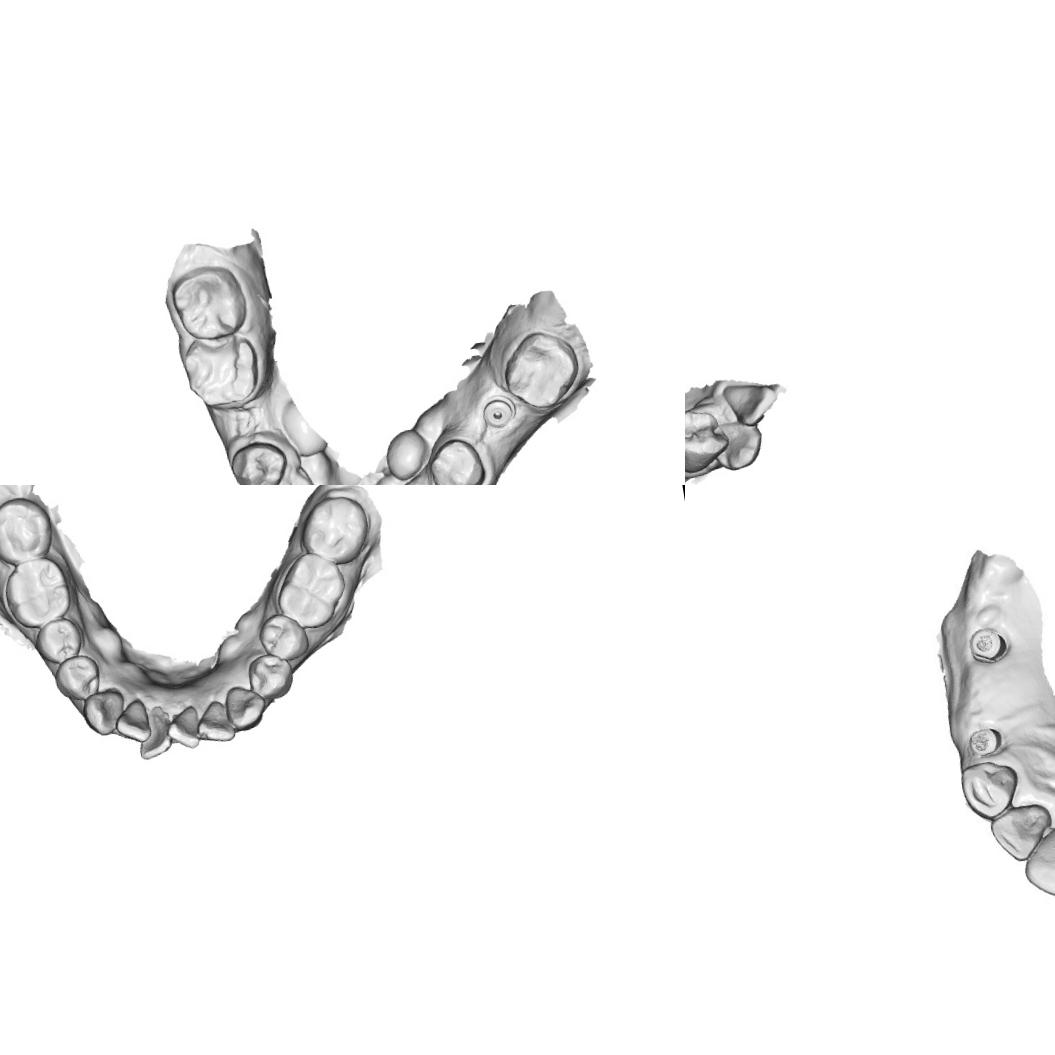canine: (954, 757, 1024, 823), (710, 414, 770, 473), (221, 682, 269, 734), (80, 688, 128, 738)
implant: (966, 624, 1012, 665), (478, 391, 520, 432), (962, 724, 1002, 762)
incisor: (986, 798, 1055, 863), (1012, 815, 1055, 909), (718, 376, 787, 427), (134, 712, 176, 761), (194, 698, 236, 746), (111, 698, 153, 746), (163, 704, 203, 752)
molar: (498, 325, 586, 415), (167, 259, 252, 346), (179, 328, 265, 412), (270, 547, 351, 633), (295, 490, 374, 571), (0, 554, 74, 632), (0, 492, 56, 567)
premolar: (685, 401, 732, 477), (226, 435, 293, 485), (424, 433, 488, 485), (254, 609, 312, 665), (243, 650, 296, 703), (51, 652, 104, 704), (31, 615, 85, 666)
